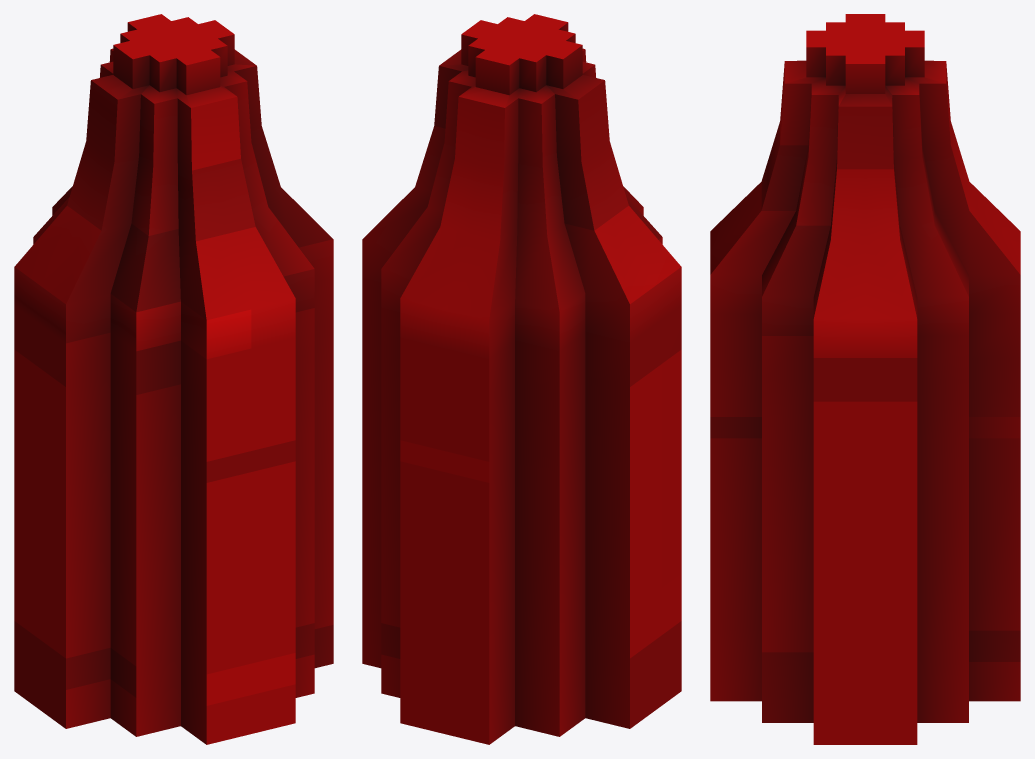
The model's file is buildings-ruins-templeruins_v5.fbx.
3 views of the same model, side by side, from view 1: azimuth 30°, elevation 25°; view 2: azimuth 150°, elevation 25°; view 3: azimuth 270°, elevation 25° (orthographic).
Parts seen in each view (by area): view 1: TempleRuins_v5; view 2: TempleRuins_v5; view 3: TempleRuins_v5.
Part boxes in pixels (left/top/right/bottom): TempleRuins_v5: left=14, top=14, right=333, bottom=744; TempleRuins_v5: left=362, top=14, right=681, bottom=744; TempleRuins_v5: left=710, top=14, right=1020, bottom=744.
Bounding box in the file's own units: 4.32 × 9.83 × 4.32.
